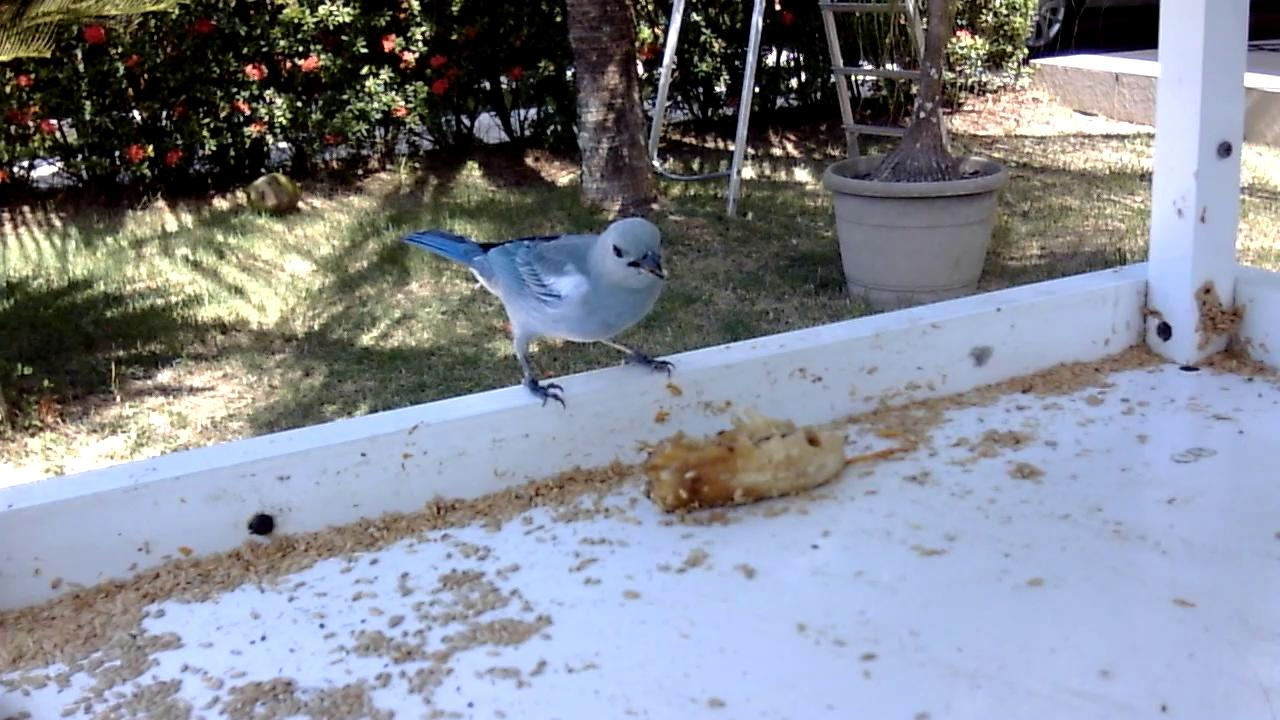sanhaco_da_amazonia: (401, 218, 680, 410)
